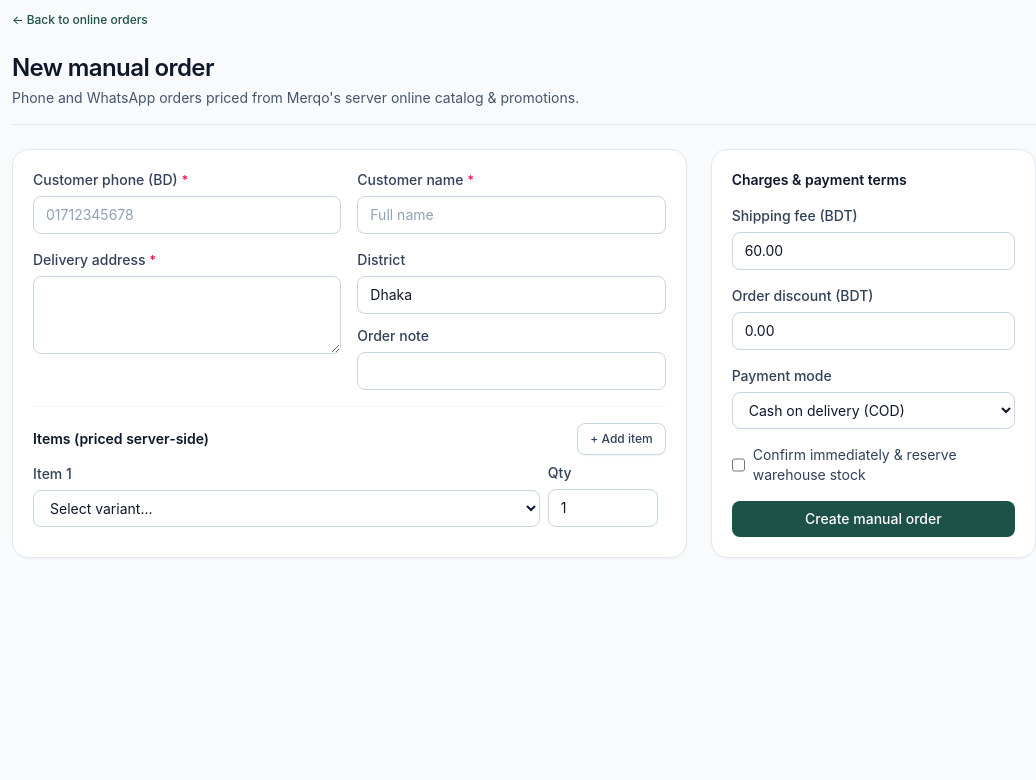
Test case: Phase 4 Online Orders, Integration Keys & Demo Console UI › looks up customer risk history in ManualOrderPage and submits manual order
Later steps or results of the test are not shown.
In the field labelled "Customer phone": (187, 215) [33,196,341,234], type "01911100003"
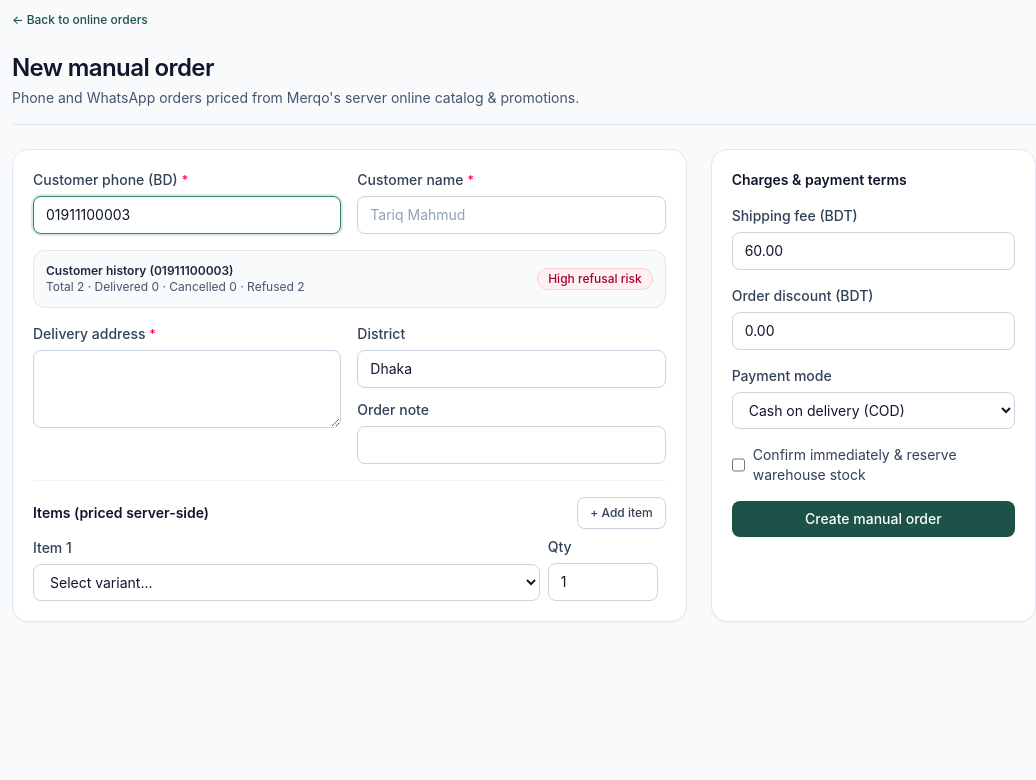
Expected: the text "High refusal risk" is shown, [537,268,653,290]
